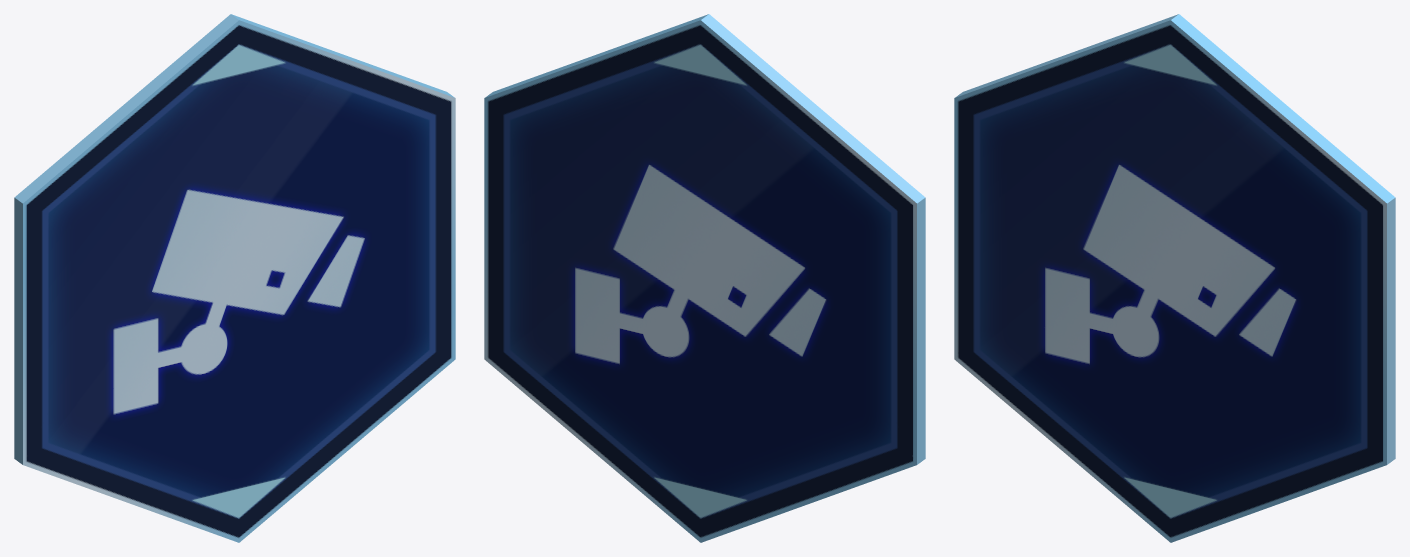
The model's file is Marker_FixedCCTV.gltf.
3 renders of one model, left to right at view 1: azimuth 30°, elevation 25°; view 2: azimuth 150°, elevation 25°; view 3: azimuth 330°, elevation 25°, orthographic.
Visible parts, largest first — view 1: MarkerFixedCCTV_A; view 2: MarkerFixedCCTV_A; view 3: MarkerFixedCCTV_A.
Part boxes in pixels (bbox=[...]): MarkerFixedCCTV_A: bbox=[14, 14, 455, 542]; MarkerFixedCCTV_A: bbox=[484, 14, 925, 542]; MarkerFixedCCTV_A: bbox=[954, 14, 1395, 542].
Bounding box in the file's own units: 5.94 × 6.86 × 0.2003.
1 material, 1 textured.
